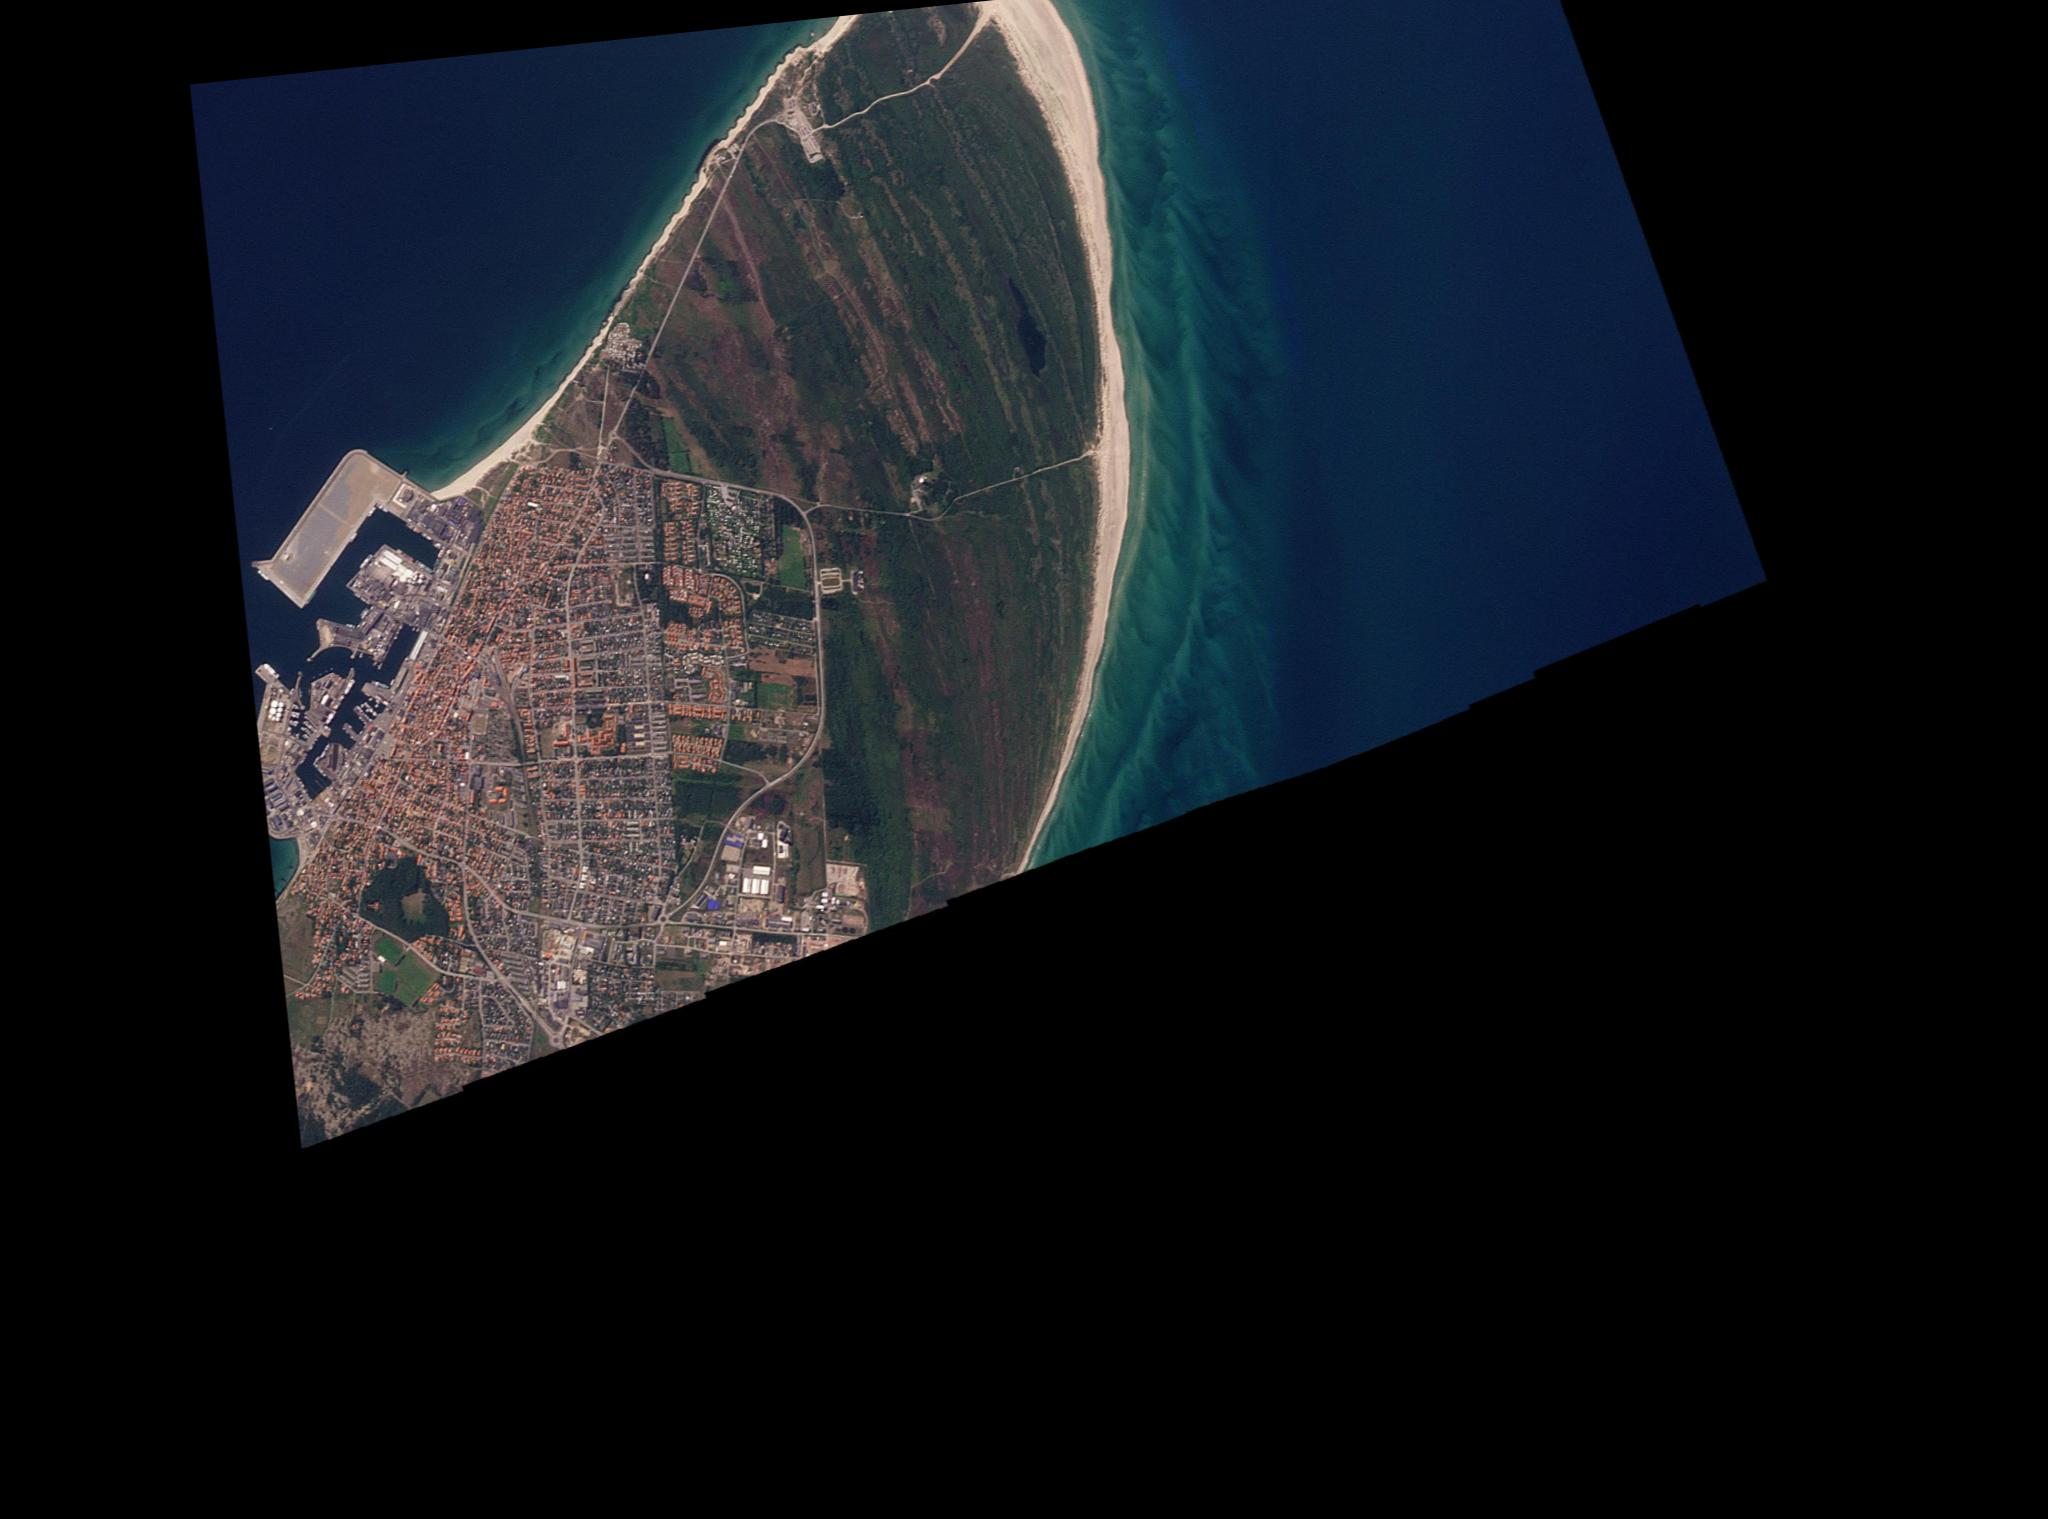ship: (262, 659, 279, 678), (413, 557, 431, 573), (341, 677, 356, 692), (357, 554, 373, 568), (396, 546, 412, 560), (332, 694, 346, 708), (324, 708, 337, 723), (405, 522, 419, 533), (317, 742, 329, 755), (257, 568, 266, 581), (348, 530, 357, 541), (375, 503, 386, 512), (421, 530, 431, 539), (311, 753, 319, 764), (367, 506, 375, 515), (388, 678, 394, 683), (410, 625, 415, 630), (415, 627, 418, 630)
